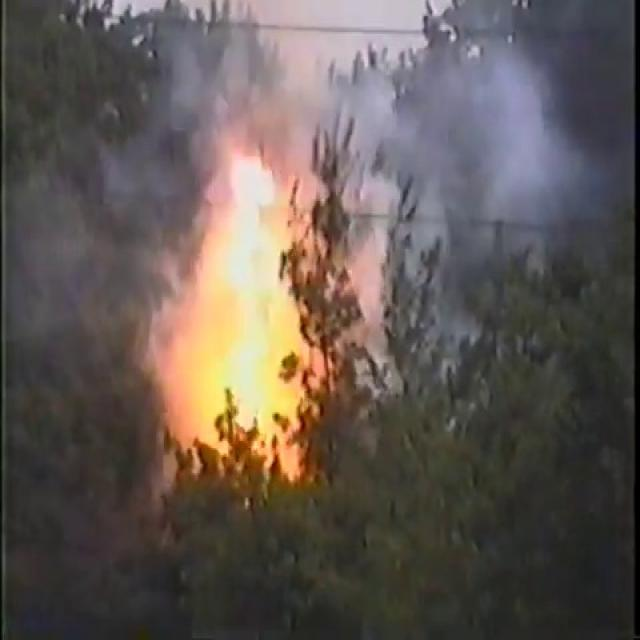Fire: (158, 134, 340, 476)
Smoke: (1, 70, 214, 604), (171, 0, 634, 208)
